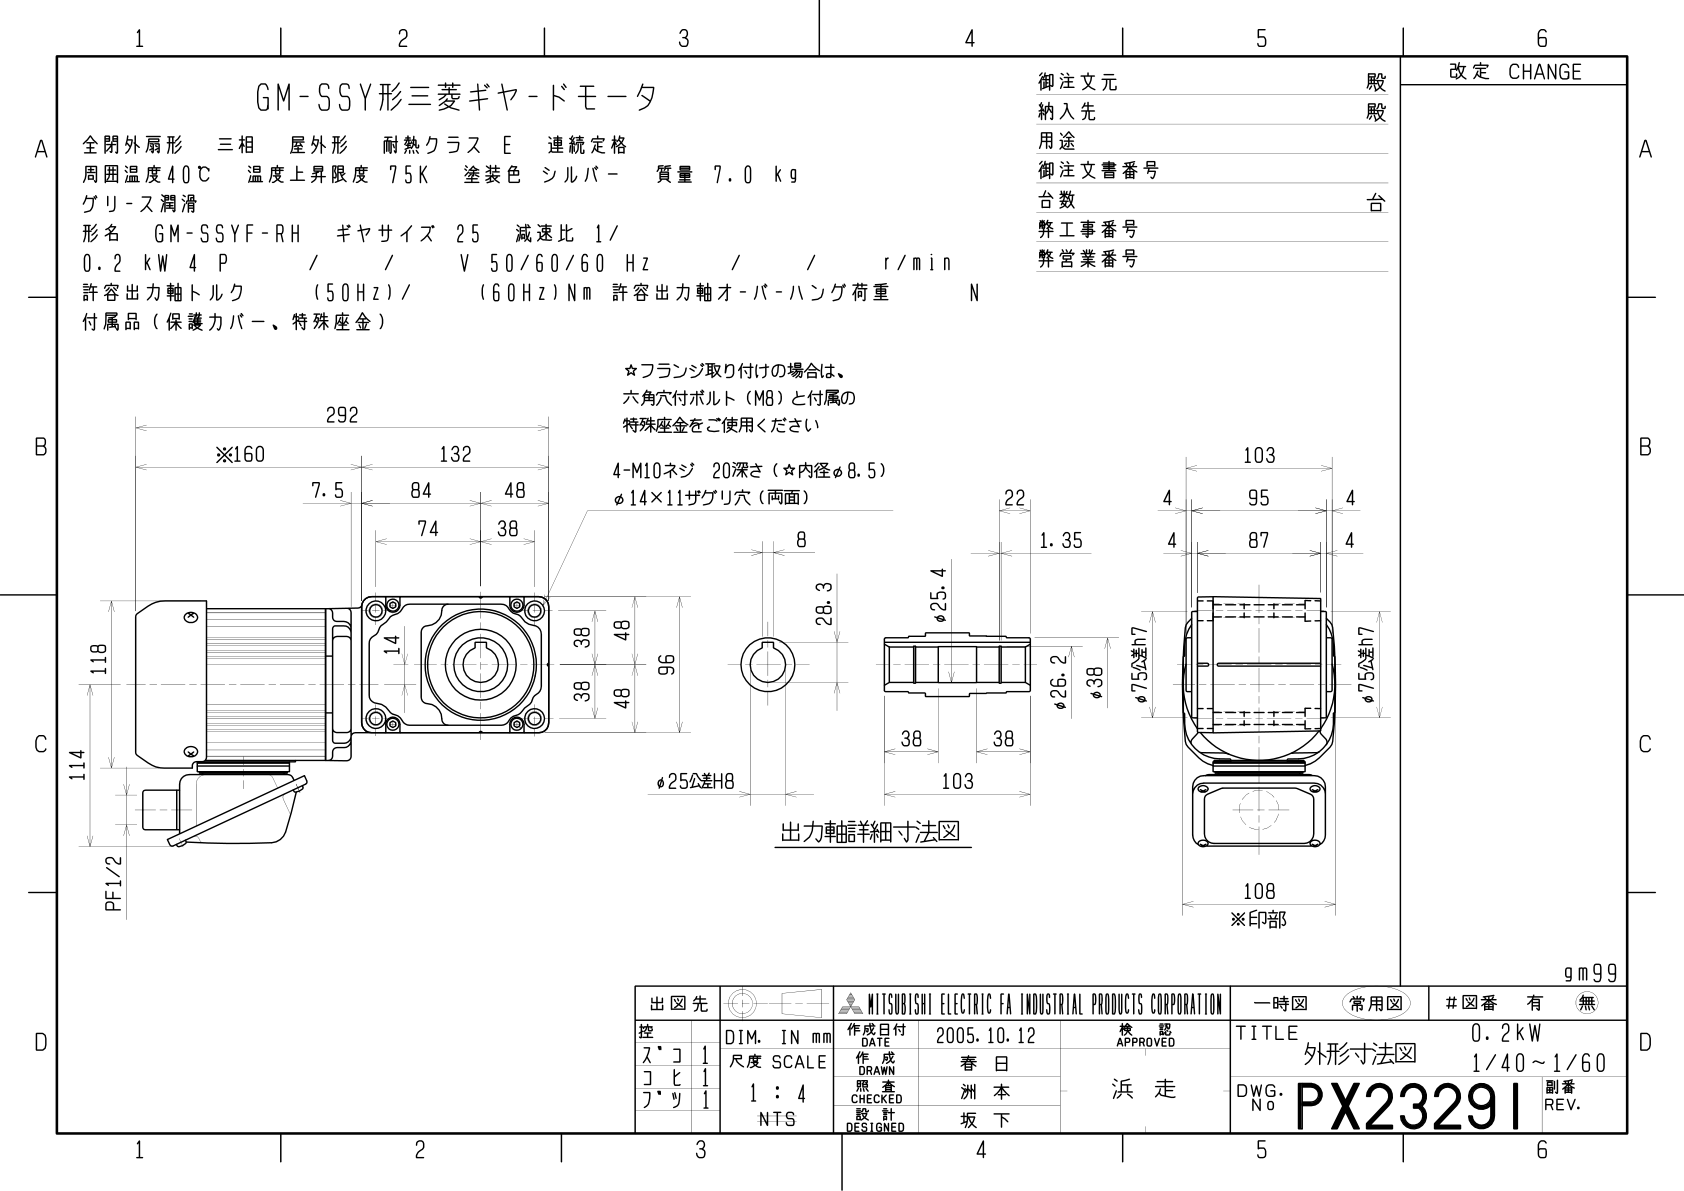GM_SSY_屋外_三相: (1, 1, 1666, 1188)
